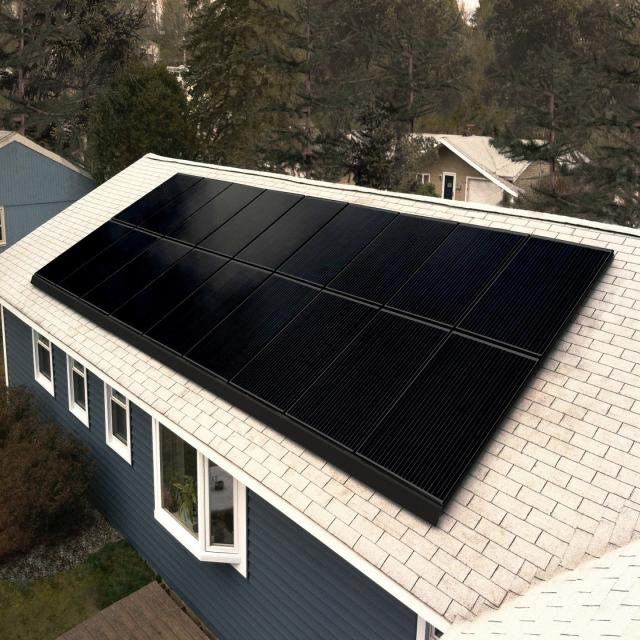clean-solar-panel: (390, 226, 524, 326)
